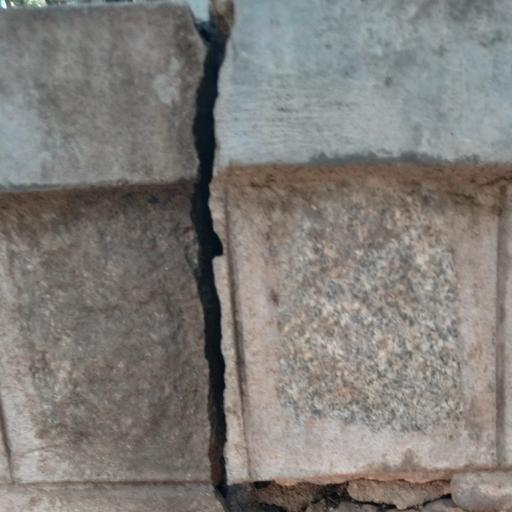major_crack: (181, 1, 254, 503), (216, 454, 492, 512)
